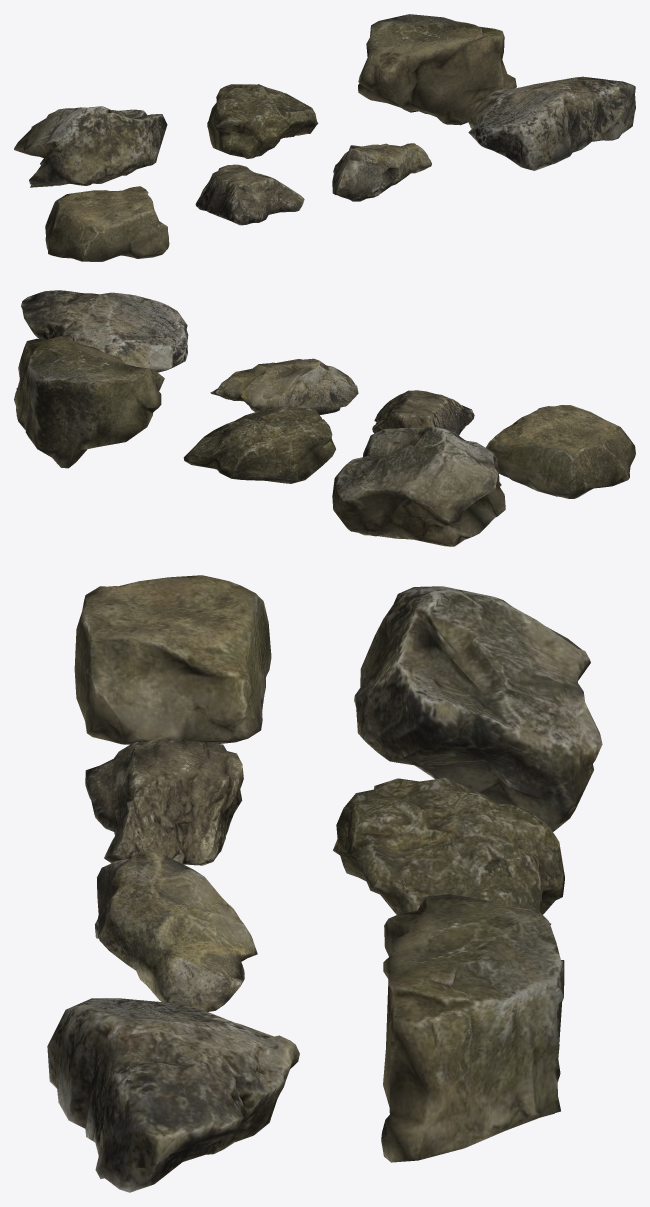
Rendered from rock_a.glb.
3 views of the same model, one above another, from view 1: azimuth 30°, elevation 25°; view 2: azimuth 150°, elevation 25°; view 3: azimuth 270°, elevation 25° (orthographic). The views are drawn at different scales.
Visible parts, largest first — view 1: rock_moss_set_02_rock13, rock_moss_set_02_rock10, rock_moss_set_02_rock11, rock_moss_set_02_rock07, rock_moss_set_02_rock12, rock_moss_set_02_rock08, rock_moss_set_02_rock09; view 2: rock_moss_set_02_rock11, rock_moss_set_02_rock13, rock_moss_set_02_rock07, rock_moss_set_02_rock10, rock_moss_set_02_rock12, rock_moss_set_02_rock09, rock_moss_set_02_rock08; view 3: rock_moss_set_02_rock11, rock_moss_set_02_rock13, rock_moss_set_02_rock10, rock_moss_set_02_rock07, rock_moss_set_02_rock12, rock_moss_set_02_rock09, rock_moss_set_02_rock08.
Boxes of the visible parts, bbox=[...] form: rock_moss_set_02_rock13: bbox=[358, 14, 516, 125]; rock_moss_set_02_rock10: bbox=[468, 76, 635, 170]; rock_moss_set_02_rock11: bbox=[14, 106, 167, 187]; rock_moss_set_02_rock07: bbox=[45, 186, 169, 261]; rock_moss_set_02_rock12: bbox=[207, 84, 318, 158]; rock_moss_set_02_rock08: bbox=[195, 164, 304, 225]; rock_moss_set_02_rock09: bbox=[332, 143, 431, 201]; rock_moss_set_02_rock11: bbox=[332, 426, 505, 546]; rock_moss_set_02_rock13: bbox=[14, 336, 164, 468]; rock_moss_set_02_rock07: bbox=[486, 405, 635, 498]; rock_moss_set_02_rock10: bbox=[21, 290, 188, 372]; rock_moss_set_02_rock12: bbox=[183, 406, 335, 483]; rock_moss_set_02_rock09: bbox=[210, 358, 358, 414]; rock_moss_set_02_rock08: bbox=[372, 390, 474, 435]; rock_moss_set_02_rock11: bbox=[354, 586, 602, 831]; rock_moss_set_02_rock13: bbox=[381, 894, 564, 1162]; rock_moss_set_02_rock10: bbox=[47, 998, 299, 1192]; rock_moss_set_02_rock07: bbox=[74, 575, 271, 744]; rock_moss_set_02_rock12: bbox=[333, 778, 564, 924]; rock_moss_set_02_rock09: bbox=[95, 849, 257, 1011]; rock_moss_set_02_rock08: bbox=[85, 739, 243, 865].
Bounding box in the file's own units: 8.28 × 1.36 × 3.41.
Materials: 1 (1 with a texture image).
